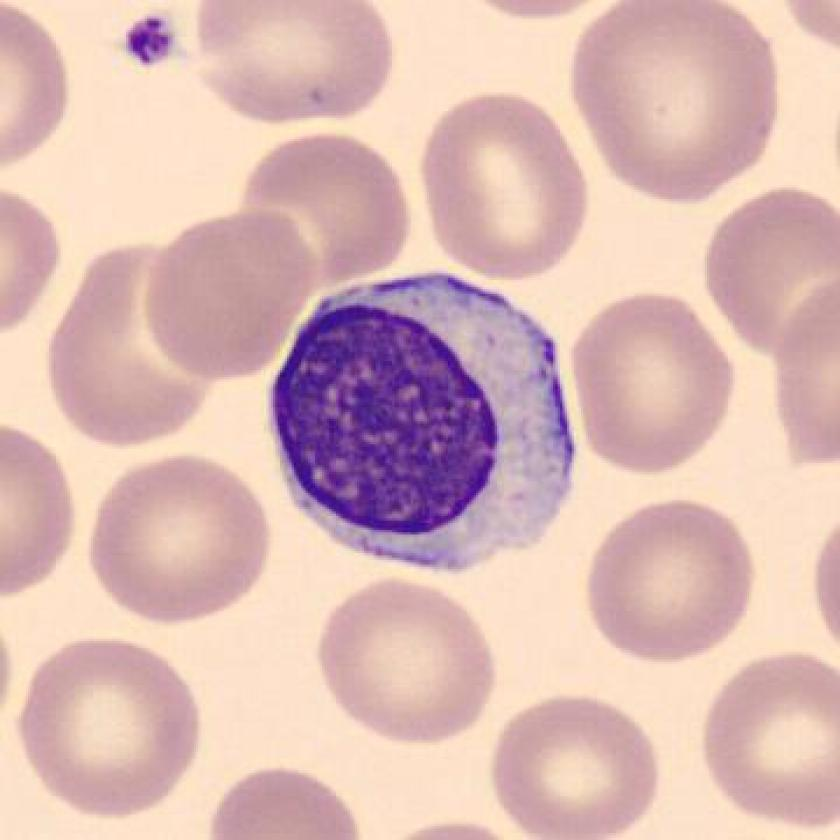lymphocyte: (255, 263, 601, 587)
